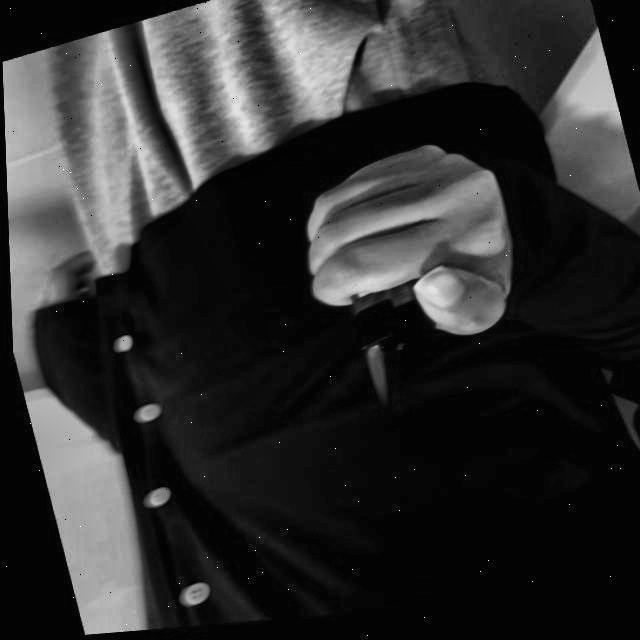Fire: (357, 350, 395, 416)
